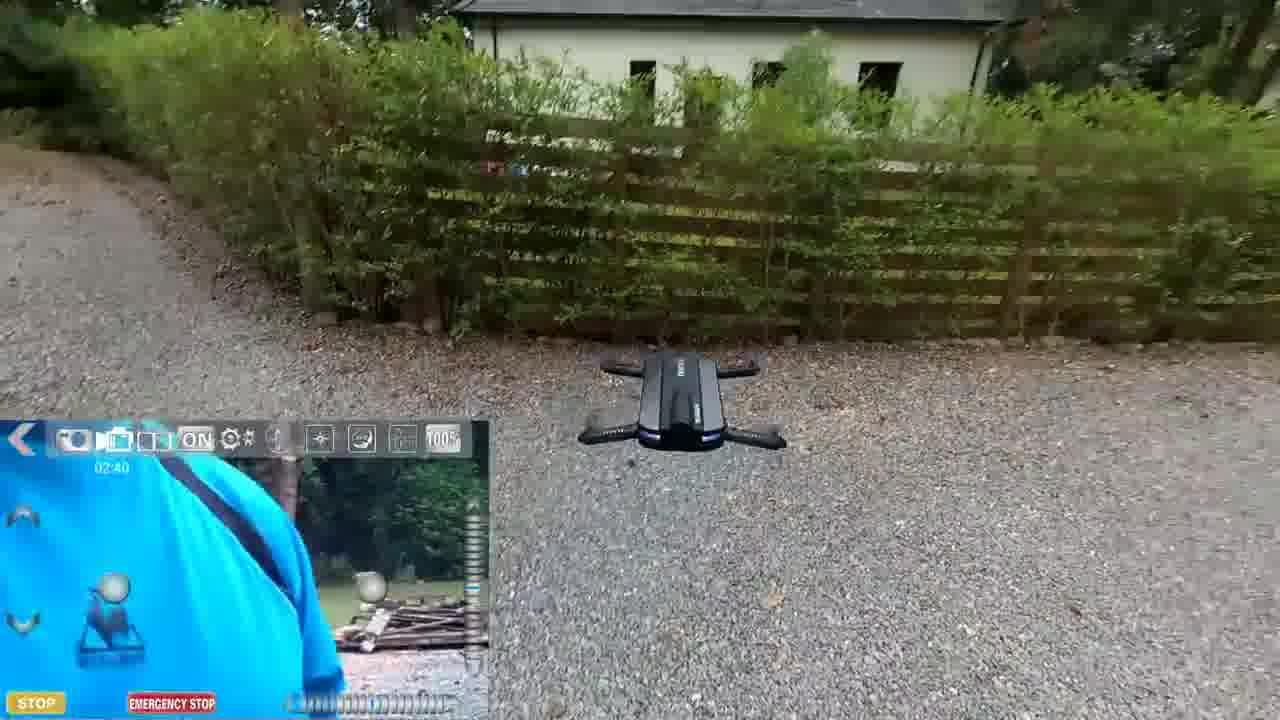drone: (563, 336, 813, 479)
